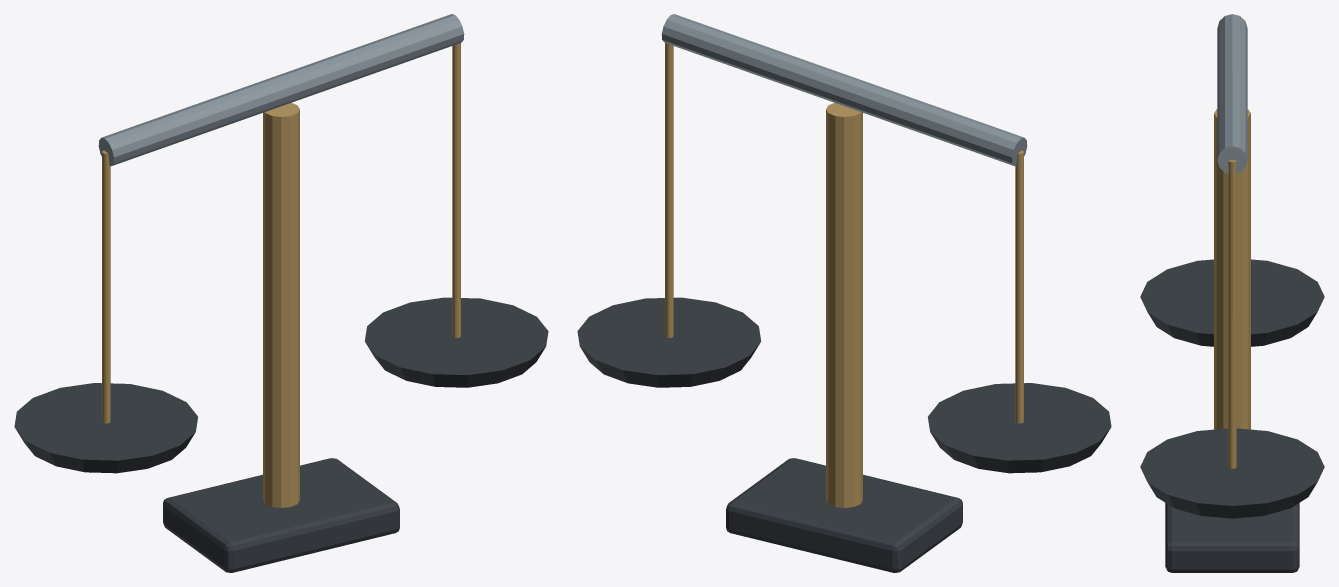
The picture shows the model from 3 angles, left to right: view 1: azimuth 30°, elevation 25°; view 2: azimuth 150°, elevation 25°; view 3: azimuth 270°, elevation 25°; orthographic projection.
Parts seen in each view (by area): view 1: TV-224 Apothecary Measure; view 2: TV-224 Apothecary Measure; view 3: TV-224 Apothecary Measure.
Part boxes in pixels (x1,y1,x2,y2): TV-224 Apothecary Measure: (14, 14, 548, 572); TV-224 Apothecary Measure: (577, 14, 1111, 572); TV-224 Apothecary Measure: (1140, 14, 1324, 572).
Bounding box in the file's own units: 0.35 × 0.31 × 0.11.
